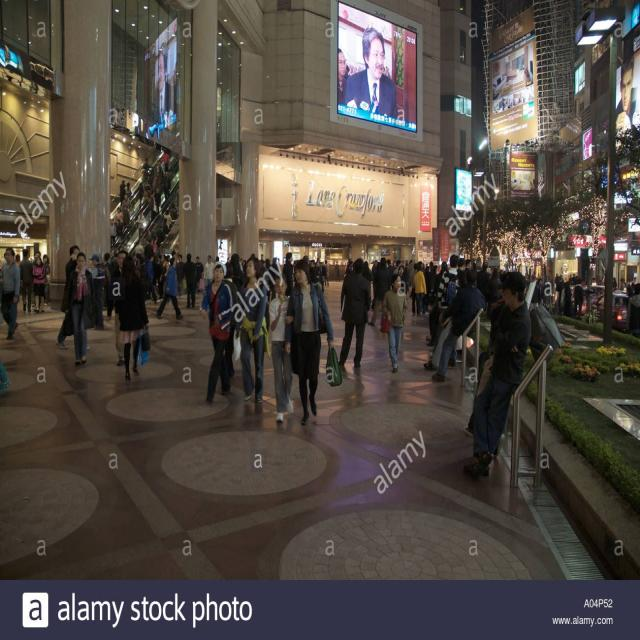body: (461, 269, 533, 478), (283, 258, 344, 427), (462, 271, 514, 439), (335, 26, 400, 120), (430, 267, 482, 383), (198, 259, 235, 409), (112, 253, 152, 382), (235, 256, 267, 405), (267, 270, 297, 424), (334, 256, 372, 369), (62, 250, 96, 369), (429, 270, 467, 360), (54, 244, 82, 351), (379, 272, 408, 375), (131, 150, 160, 247), (106, 249, 128, 366), (523, 272, 585, 308), (154, 255, 185, 323), (224, 261, 242, 378), (0, 246, 22, 341), (366, 255, 392, 326), (152, 46, 175, 126), (616, 55, 638, 135), (436, 254, 461, 314), (88, 253, 105, 331), (16, 247, 34, 314), (412, 263, 431, 316), (291, 255, 324, 285), (181, 251, 197, 309), (31, 255, 46, 315), (625, 281, 640, 339), (387, 259, 437, 276), (216, 240, 244, 269), (104, 252, 115, 320), (41, 253, 53, 308), (202, 254, 215, 303), (145, 252, 158, 301), (159, 254, 171, 304), (282, 252, 294, 299), (487, 267, 502, 304), (433, 261, 448, 297), (476, 261, 490, 299), (573, 277, 585, 321), (410, 262, 419, 316), (176, 253, 186, 300), (423, 265, 433, 310), (562, 279, 573, 319), (425, 311, 436, 348), (193, 255, 203, 295), (270, 257, 279, 301), (430, 264, 440, 302), (264, 257, 273, 298), (113, 206, 124, 238), (160, 145, 172, 174), (624, 277, 639, 300), (425, 260, 434, 298), (136, 209, 146, 243), (0, 360, 11, 390), (371, 259, 379, 300), (164, 208, 178, 230), (386, 258, 395, 291), (153, 184, 162, 217), (162, 170, 171, 201), (152, 235, 164, 258), (161, 217, 172, 242), (362, 260, 374, 282), (149, 191, 157, 223), (120, 193, 132, 214), (0, 252, 5, 301), (144, 236, 154, 260), (133, 239, 145, 259), (123, 204, 132, 226), (323, 259, 330, 287), (120, 180, 127, 208), (110, 218, 116, 250), (46, 255, 50, 303), (590, 277, 598, 300), (456, 258, 466, 276), (32, 250, 44, 265), (392, 259, 402, 275), (251, 249, 264, 261), (334, 260, 341, 282), (124, 181, 132, 200), (621, 277, 628, 297), (345, 260, 354, 275), (462, 259, 473, 271), (396, 264, 404, 278), (345, 257, 352, 273), (156, 253, 164, 266), (619, 277, 626, 291), (499, 268, 509, 277), (612, 277, 617, 293), (15, 253, 21, 266), (170, 248, 177, 258), (368, 259, 374, 270), (32, 253, 36, 260)
